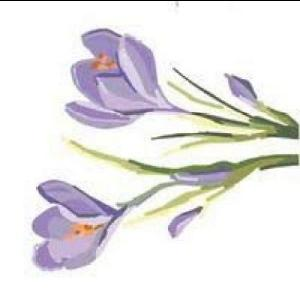Saffron: (63, 26, 176, 128), (31, 178, 128, 271)
